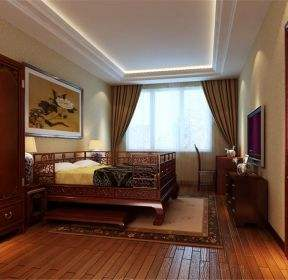床: (37, 159, 169, 215)
灯: (228, 146, 258, 175), (86, 139, 106, 165), (22, 135, 37, 167)
